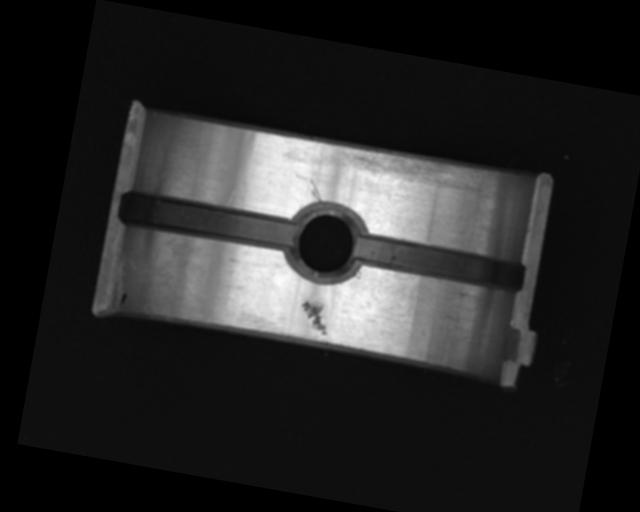blot: (117, 290, 129, 308)
bruise: (296, 295, 334, 337)
gap: (117, 188, 301, 254), (352, 231, 528, 293)
hole: (283, 198, 371, 285)
nick: (307, 179, 325, 204)
scratch: (337, 139, 496, 200)
